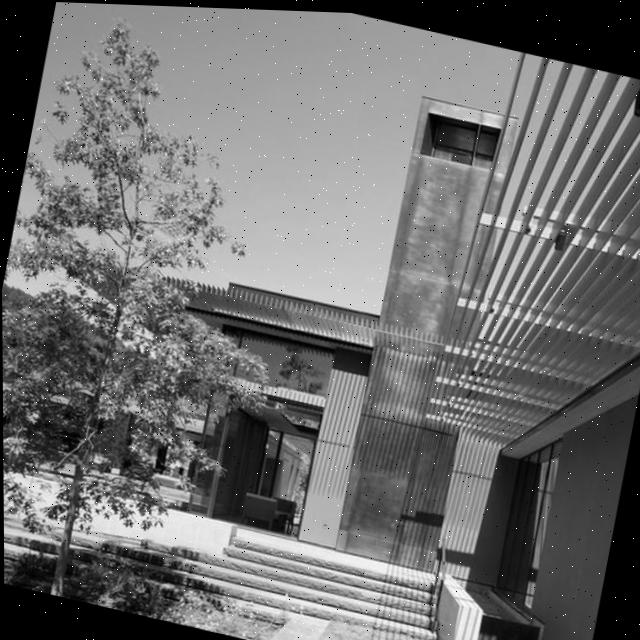building: (104, 262, 566, 597), (327, 86, 531, 584)
